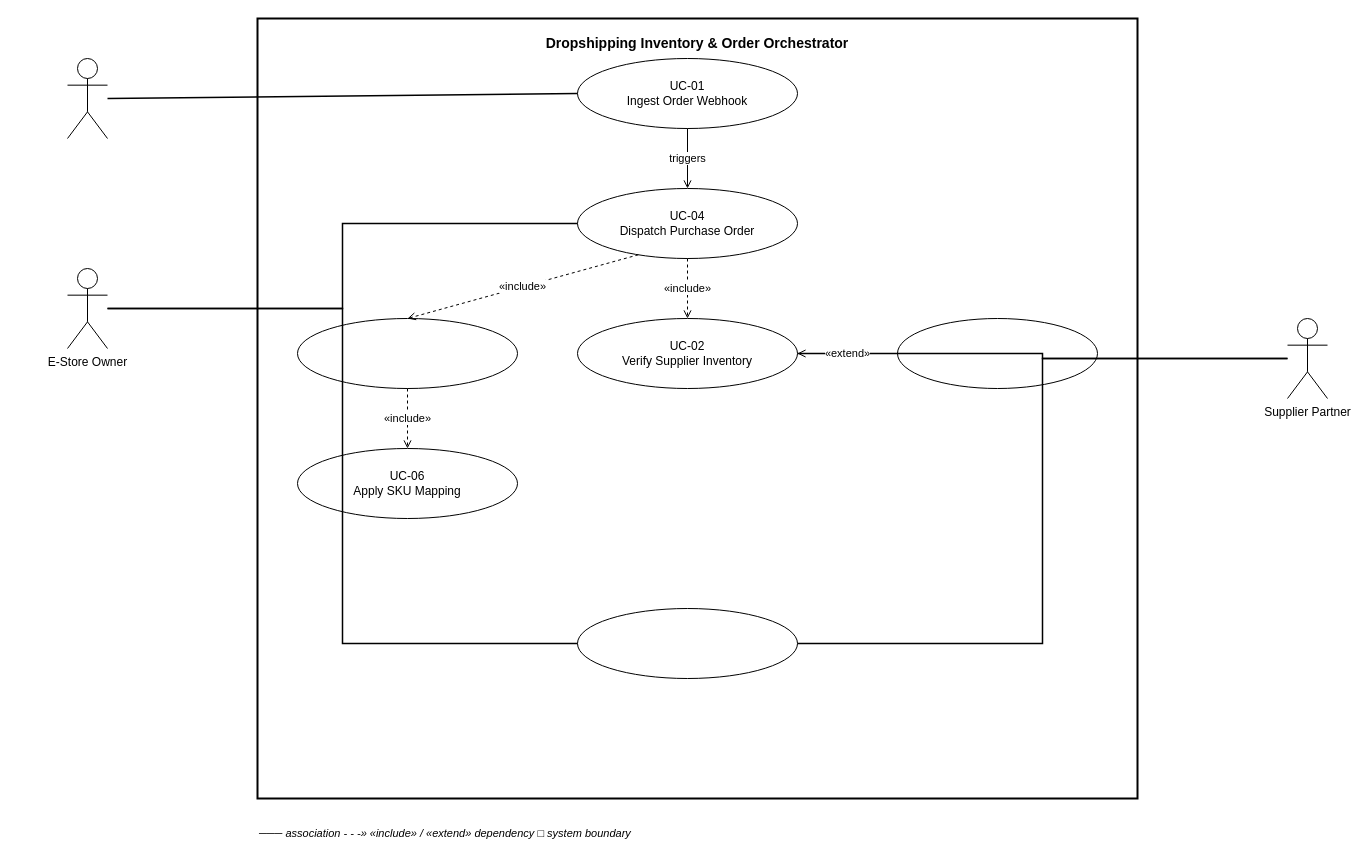
This 1368x865 diagram has some shape labels left out. Each missing label, with the centre of its shape:
"Storefront (Shopify / WooCommerce)" belongs at (x=87, y=98).
"UC-03 Split Multi-Vendor Order" belongs at (x=407, y=353).
"UC-05 Track Shipment" belongs at (x=687, y=643).
"UC-07 Flag Out-of-Stock Item" belongs at (x=997, y=353).
